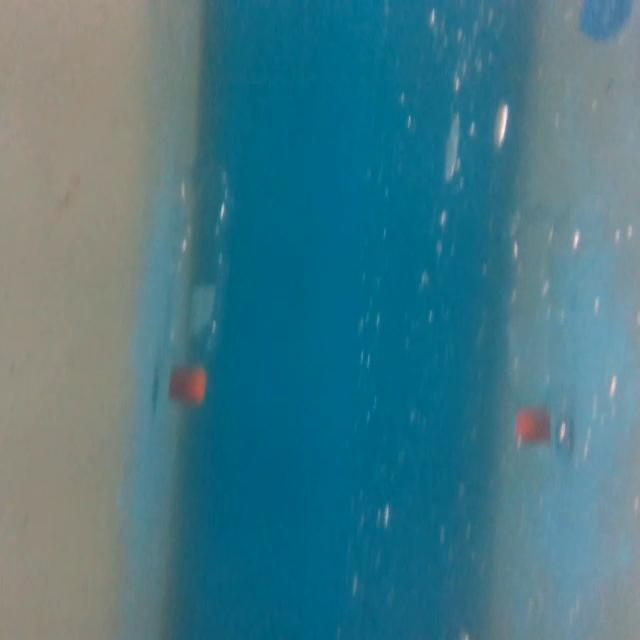plastic bottle: (162, 161, 243, 411)
